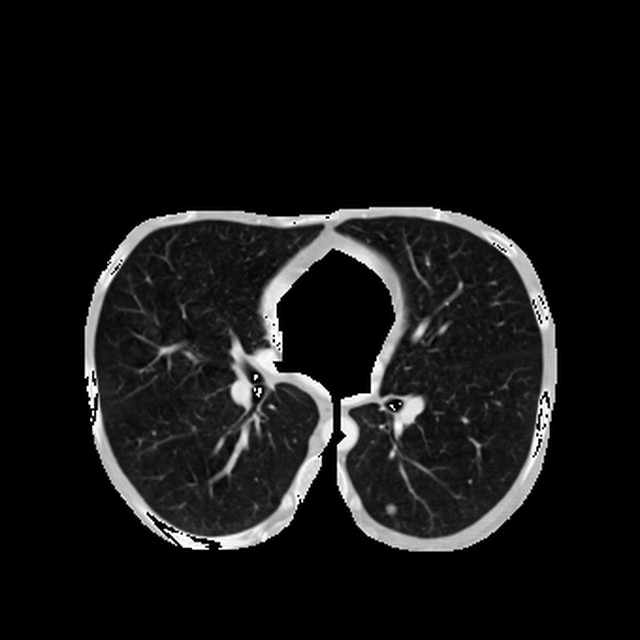PN: (384, 503, 395, 514)
